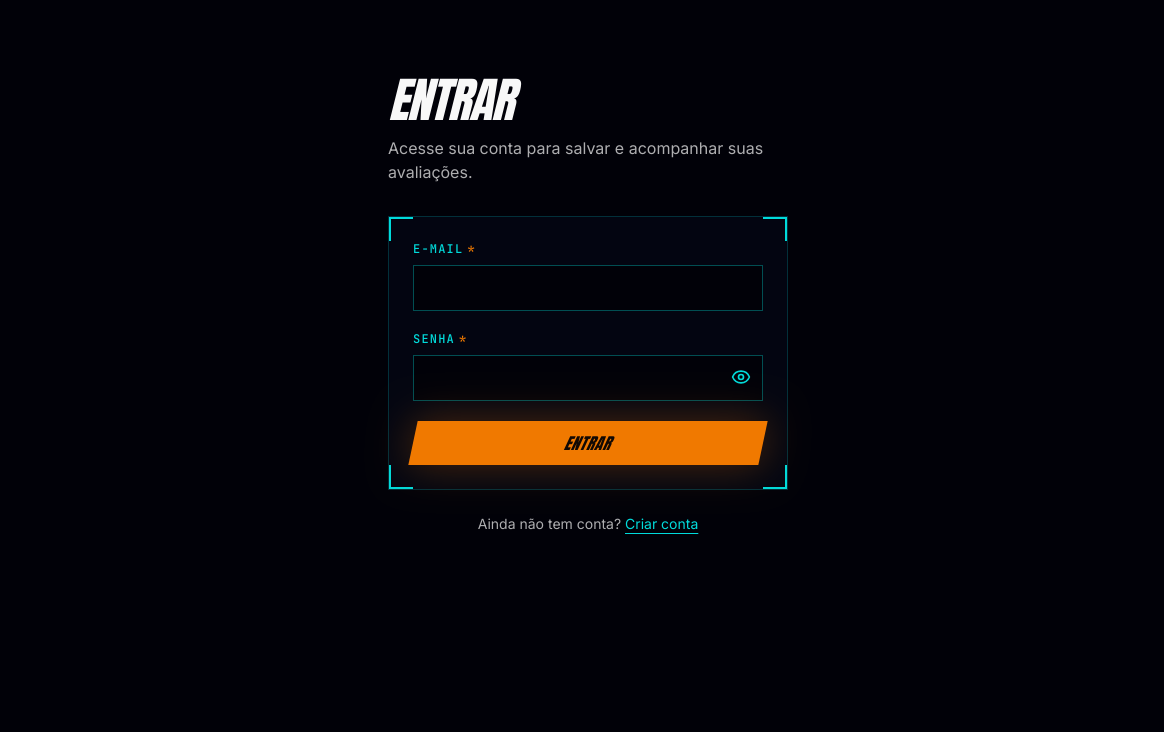
Test case: LoginPage › entra e redireciona para o next
The width and height of the screenshot is (1164, 732).
Type "ana@exemplo.com" into the field labelled "E-mail*".
click(588, 288); type("ana@exemplo.com")  # box 413,265 -> 763,311
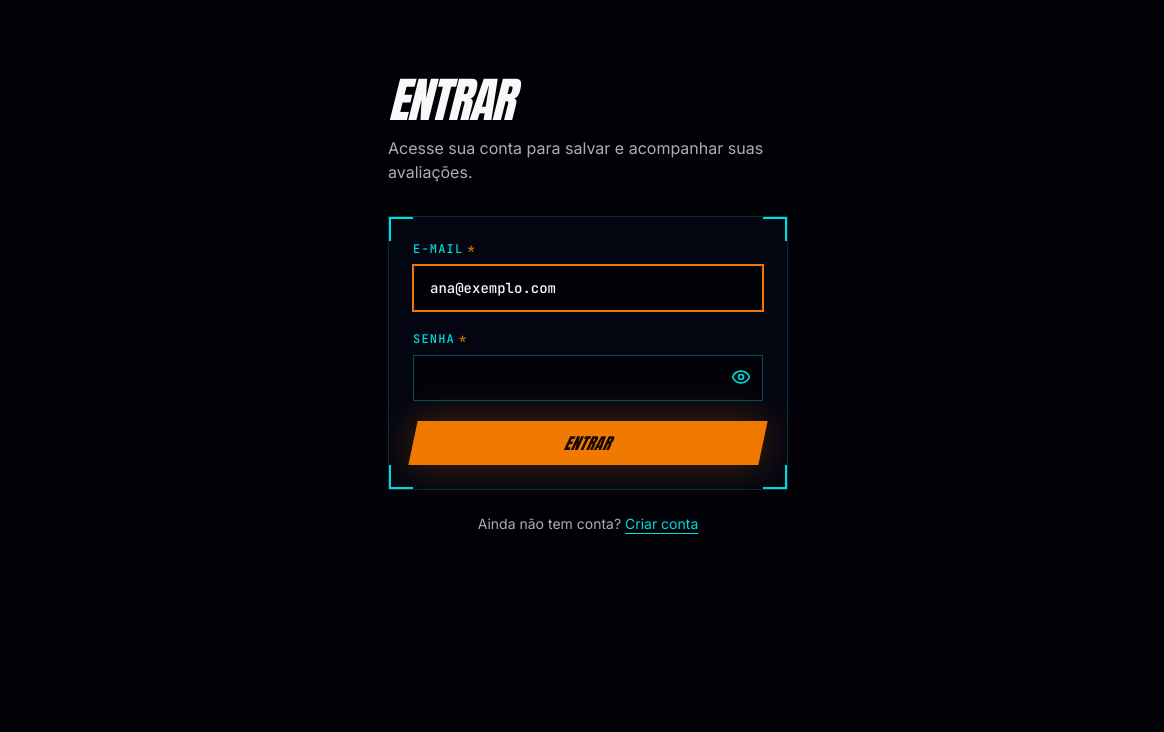
Type "senha-segura-123" into the password field labelled "Senha*".
click(588, 378); type("senha-segura-123")  # box 413,355 -> 763,401
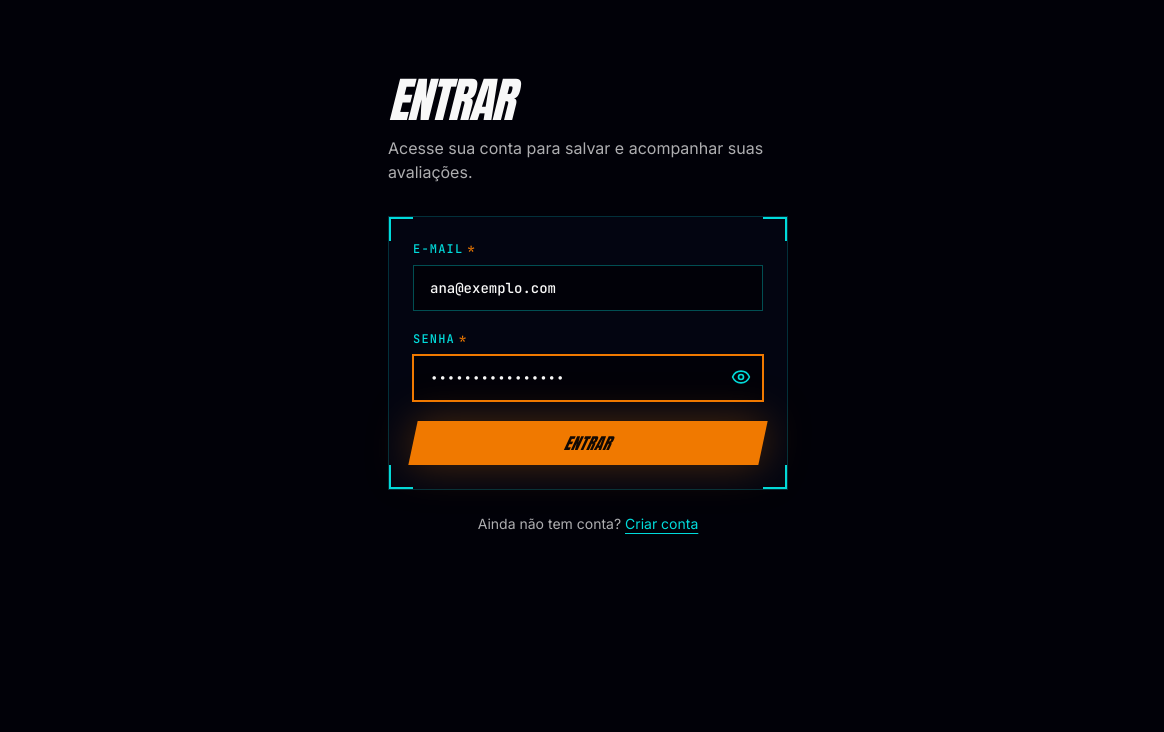
Click the button "Entrar".
click(588, 443)  # box 408,421 -> 768,465
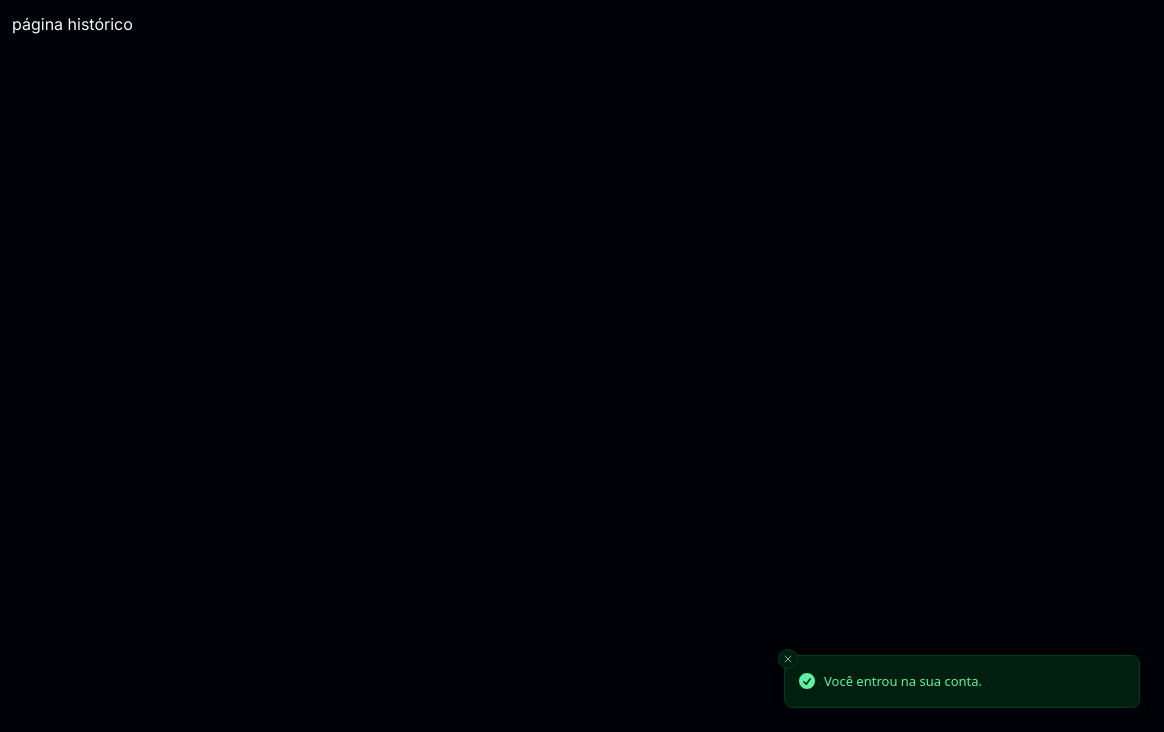
Result: the text "página histórico" is shown at 12,14 -> 133,34
